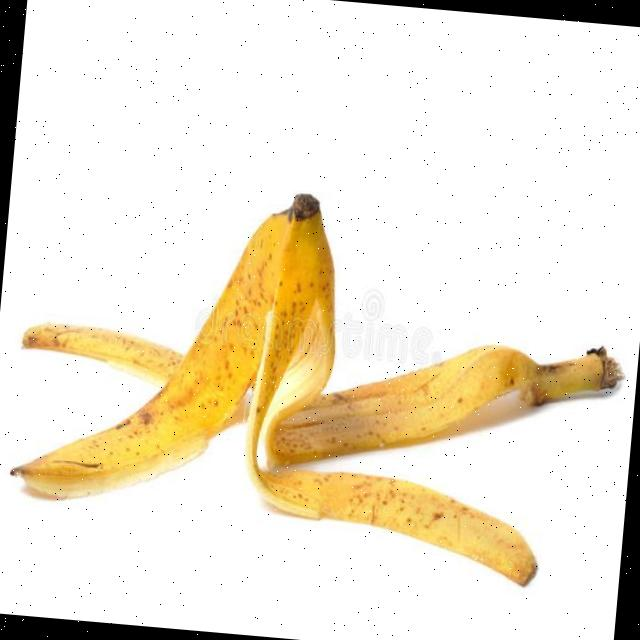banana-peel: (1, 167, 636, 594), (6, 174, 294, 518), (267, 316, 626, 498)
